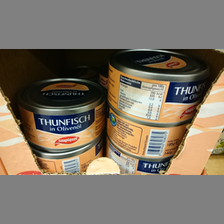fish: (108, 50, 208, 124), (12, 78, 106, 150), (104, 107, 188, 158)
